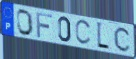0: (57, 16, 71, 44)
C: (113, 26, 132, 53), (75, 19, 93, 46)
F: (35, 11, 54, 39)
L: (96, 21, 111, 52)
O: (16, 9, 34, 37)
